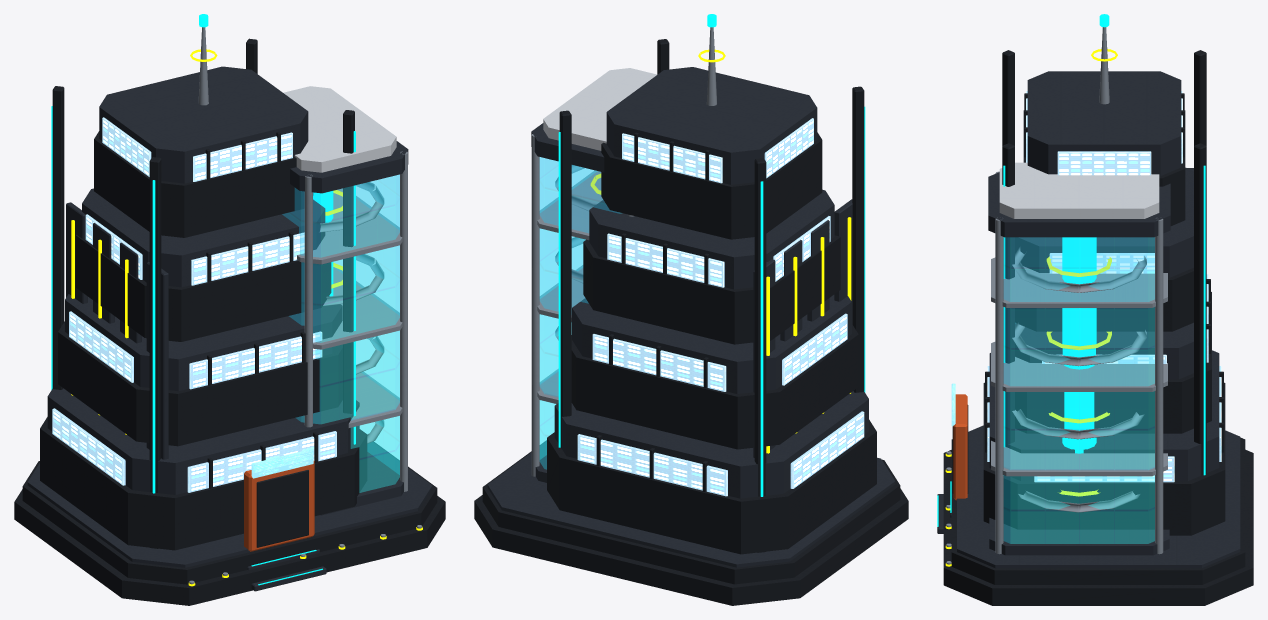
Rendered from bldg_12_r1_04.glb.
3 views of the same model, side by side, from view 1: azimuth 30°, elevation 25°; view 2: azimuth 150°, elevation 25°; view 3: azimuth 270°, elevation 25° (orthographic). The views are drawn at different scales.
Visible parts, largest first — view 1: Bldg12_C04_gunmetal, Bldg12_C04_carbon_slate, Bldg12_C04_glass_cyan, Bldg12_C04_window_lit, Bldg12_C04_steel_machined, Bldg12_C04_aero_white, Bldg12_C04_led_cyan, Bldg12_C04_accent_orange, Bldg12_C04_led_amber, Bldg12_C04_marquee; view 2: Bldg12_C04_gunmetal, Bldg12_C04_carbon_slate, Bldg12_C04_window_lit, Bldg12_C04_glass_cyan, Bldg12_C04_steel_machined, Bldg12_C04_aero_white, Bldg12_C04_led_cyan, Bldg12_C04_led_amber; view 3: Bldg12_C04_gunmetal, Bldg12_C04_carbon_slate, Bldg12_C04_glass_cyan, Bldg12_C04_steel_machined, Bldg12_C04_aero_white, Bldg12_C04_led_cyan, Bldg12_C04_window_lit, Bldg12_C04_accent_orange, Bldg12_C04_led_amber.
Boxes of the visible parts, box(x1,y1,x2,y2) form: Bldg12_C04_gunmetal: box(14, 38, 445, 605); Bldg12_C04_carbon_slate: box(27, 66, 432, 591); Bldg12_C04_glass_cyan: box(282, 174, 399, 492); Bldg12_C04_window_lit: box(52, 117, 336, 492); Bldg12_C04_steel_machined: box(189, 27, 422, 584); Bldg12_C04_aero_white: box(283, 86, 396, 172); Bldg12_C04_led_cyan: box(51, 14, 355, 585); Bldg12_C04_accent_orange: box(244, 461, 314, 551); Bldg12_C04_led_amber: box(71, 49, 422, 586); Bldg12_C04_marquee: box(251, 449, 313, 478); Bldg12_C04_gunmetal: box(474, 39, 908, 605); Bldg12_C04_carbon_slate: box(487, 67, 895, 567); Bldg12_C04_window_lit: box(577, 118, 864, 496); Bldg12_C04_glass_cyan: box(539, 157, 621, 469); Bldg12_C04_steel_machined: box(531, 27, 716, 476); Bldg12_C04_aero_white: box(543, 68, 656, 150); Bldg12_C04_led_cyan: box(558, 14, 865, 496); Bldg12_C04_led_amber: box(590, 49, 851, 453); Bldg12_C04_gunmetal: box(943, 50, 1253, 605); Bldg12_C04_carbon_slate: box(937, 71, 1240, 568); Bldg12_C04_glass_cyan: box(1004, 237, 1154, 543); Bldg12_C04_steel_machined: box(946, 27, 1167, 564); Bldg12_C04_aero_white: box(999, 162, 1159, 218); Bldg12_C04_led_cyan: box(937, 14, 1205, 526); Bldg12_C04_window_lit: box(987, 91, 1221, 482); Bldg12_C04_accent_orange: box(953, 394, 967, 500); Bldg12_C04_led_amber: box(945, 49, 1117, 566).
Bounding box in the file's own units: 12.5 × 18.72 × 10.71.
Materials: 10 (10 with a texture image).
